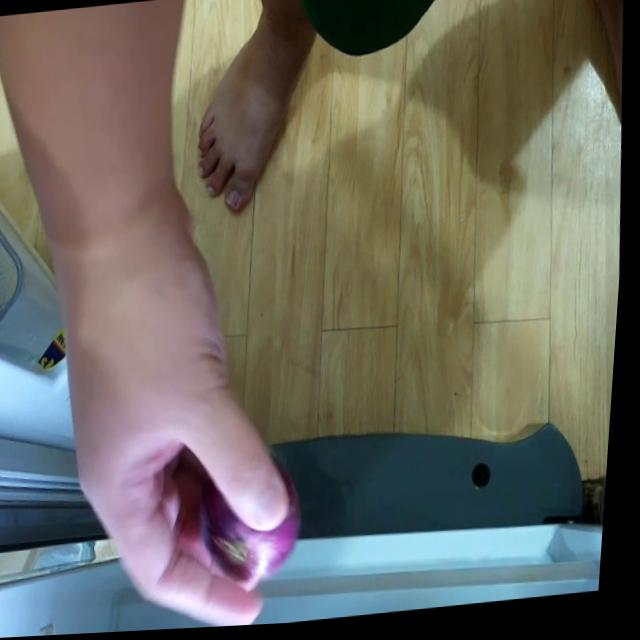onion: (200, 468, 315, 590)
